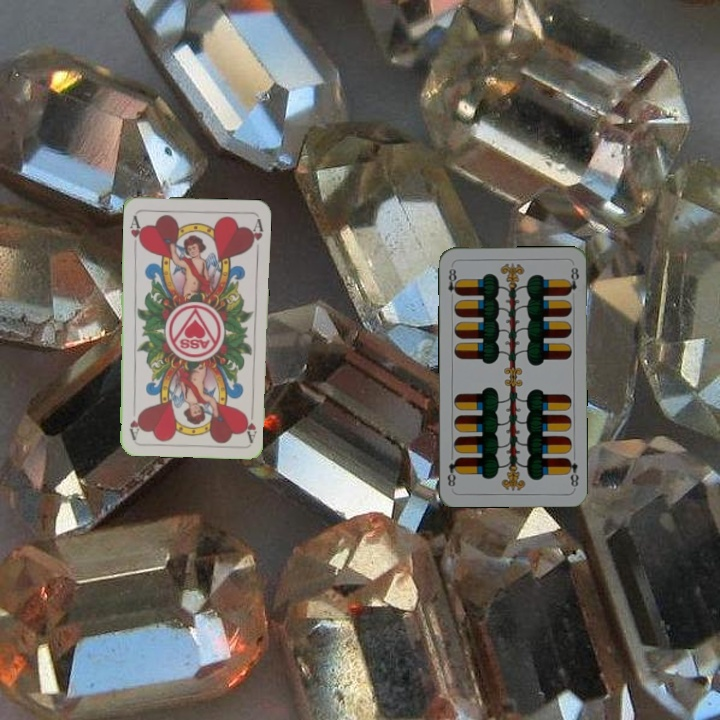E8: (563, 454, 581, 489), (444, 262, 461, 298)
HA: (126, 211, 145, 251), (240, 403, 259, 443)
